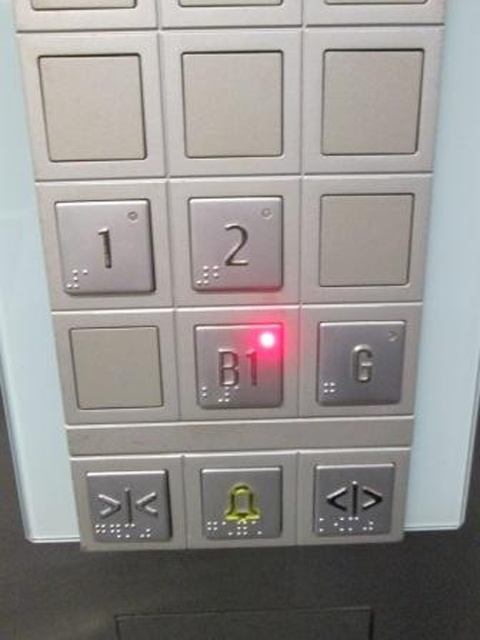1: (52, 196, 158, 297)
2: (186, 194, 288, 295)
B1: (191, 323, 287, 412)
G: (314, 320, 406, 404)
alarm: (195, 465, 286, 543)
close: (84, 468, 175, 548)
empty: (36, 49, 152, 166), (177, 44, 289, 164), (314, 42, 426, 160), (311, 184, 417, 292), (66, 321, 167, 417)
open: (310, 462, 395, 540)
